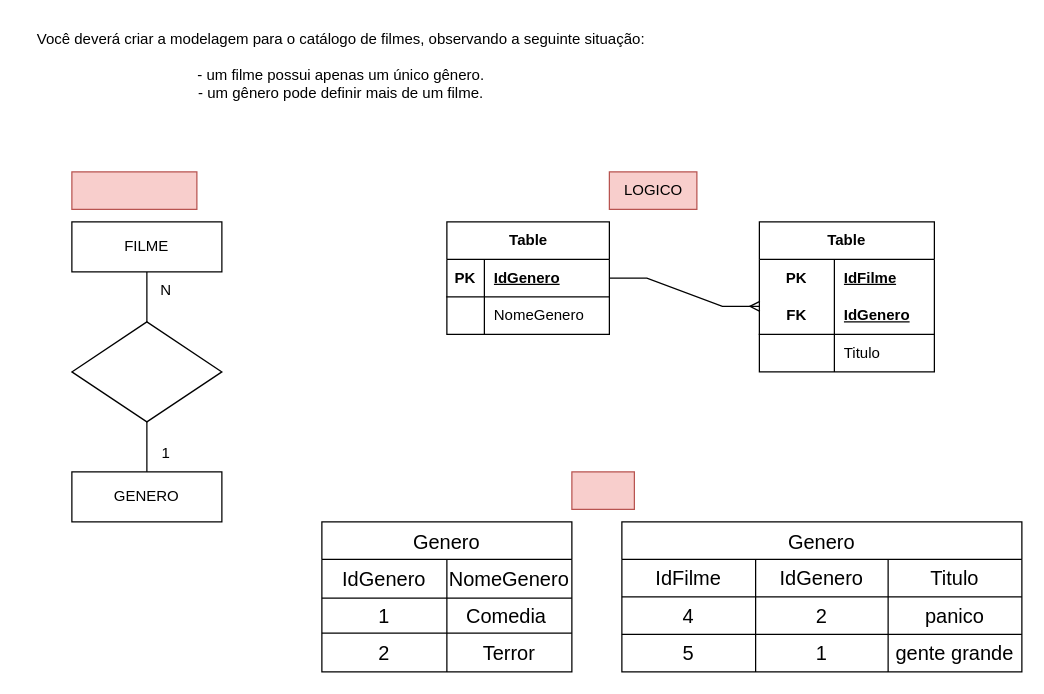
This 1044x694 diagram has some shape labels left out. The centre of each missing label's shape, as x and y in pixels:
"CONCEITUAL" belongs at (x=134, y=190).
"Fisico" belongs at (x=602, y=490).
"POSSUI" belongs at (x=146, y=371).
